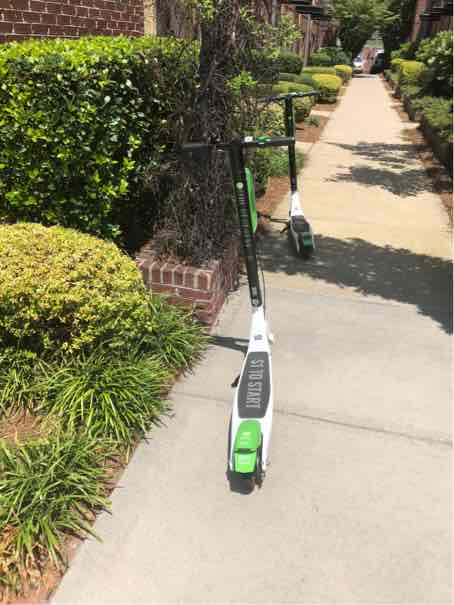scooter: (183, 135, 296, 481)
